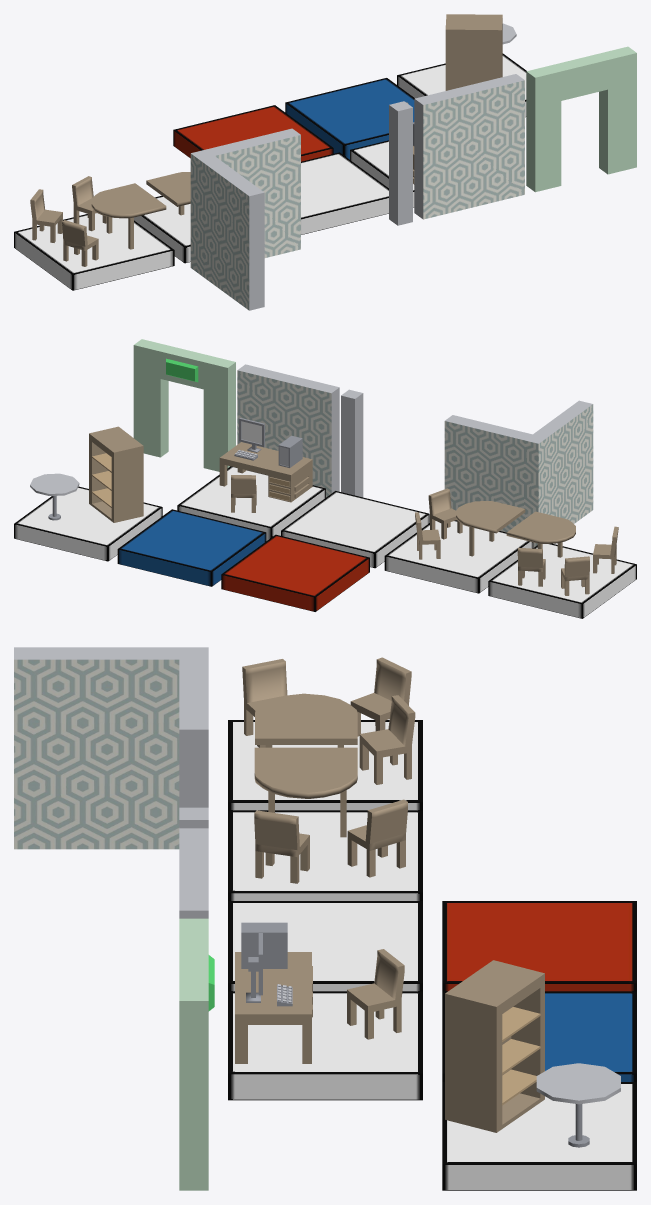
Rendered from tiles.gltf.
3 renders of one model, top to bottom at view 1: azimuth 30°, elevation 25°; view 2: azimuth 150°, elevation 25°; view 3: azimuth 270°, elevation 25°, orthographic. The views are drawn at different scales.
Parts seen in each view (by area): view 1: tile_wall_angle, tile_wall, tile_table_2, tile_exit, tile_armoire, tile_water, tile_floor, tile_fire, tile_table_1, tile_wall_corner, title_desk; view 2: tile_wall_angle, tile_armoire, title_desk, tile_table_2, tile_table_1, tile_exit, tile_wall, tile_fire, tile_water, tile_floor, tile_wall_corner; view 3: tile_wall_angle, tile_armoire, title_desk, tile_table_1, tile_table_2, tile_fire, tile_floor, tile_exit, tile_water, tile_wall.
Boxes of the visible parts, box(x1,y1,x2,y2) form: tile_wall_angle: box(190, 128, 300, 310); tile_wall: box(414, 74, 524, 219); tile_table_2: box(14, 176, 174, 290); tile_exit: box(526, 46, 636, 192); tile_armoire: box(397, 14, 526, 117); tile_water: box(285, 78, 414, 159); tile_floor: box(301, 152, 388, 234); tile_fire: box(173, 105, 333, 161); tile_table_1: box(134, 172, 190, 263); tile_wall_corner: box(389, 101, 412, 225); title_desk: box(350, 102, 414, 207); tile_wall_angle: box(444, 400, 593, 547); tile_armoire: box(14, 426, 162, 561); title_desk: box(177, 418, 325, 540); tile_table_2: box(488, 511, 636, 618); tile_table_1: box(384, 488, 533, 593); tile_exit: box(133, 339, 235, 471); tile_wall: box(237, 364, 339, 497); tile_fire: box(221, 534, 369, 611); tile_water: box(117, 509, 266, 586); tile_floor: box(281, 491, 429, 568); tile_wall_corner: box(341, 389, 363, 497); tile_wall_angle: box(14, 647, 208, 849); tile_armoire: box(442, 960, 636, 1190); title_desk: box(228, 922, 422, 1100); tile_table_1: box(228, 747, 422, 900); tile_table_2: box(228, 657, 422, 810); tile_fire: box(442, 901, 636, 991); tile_floor: box(228, 901, 422, 991); tile_exit: box(179, 918, 214, 1190); tile_water: box(442, 991, 636, 1081); tile_wall: box(179, 828, 208, 918).
Size of the model in its own units: 10.8 by 2.15 by 6.4.
11 materials, 4 textured.
